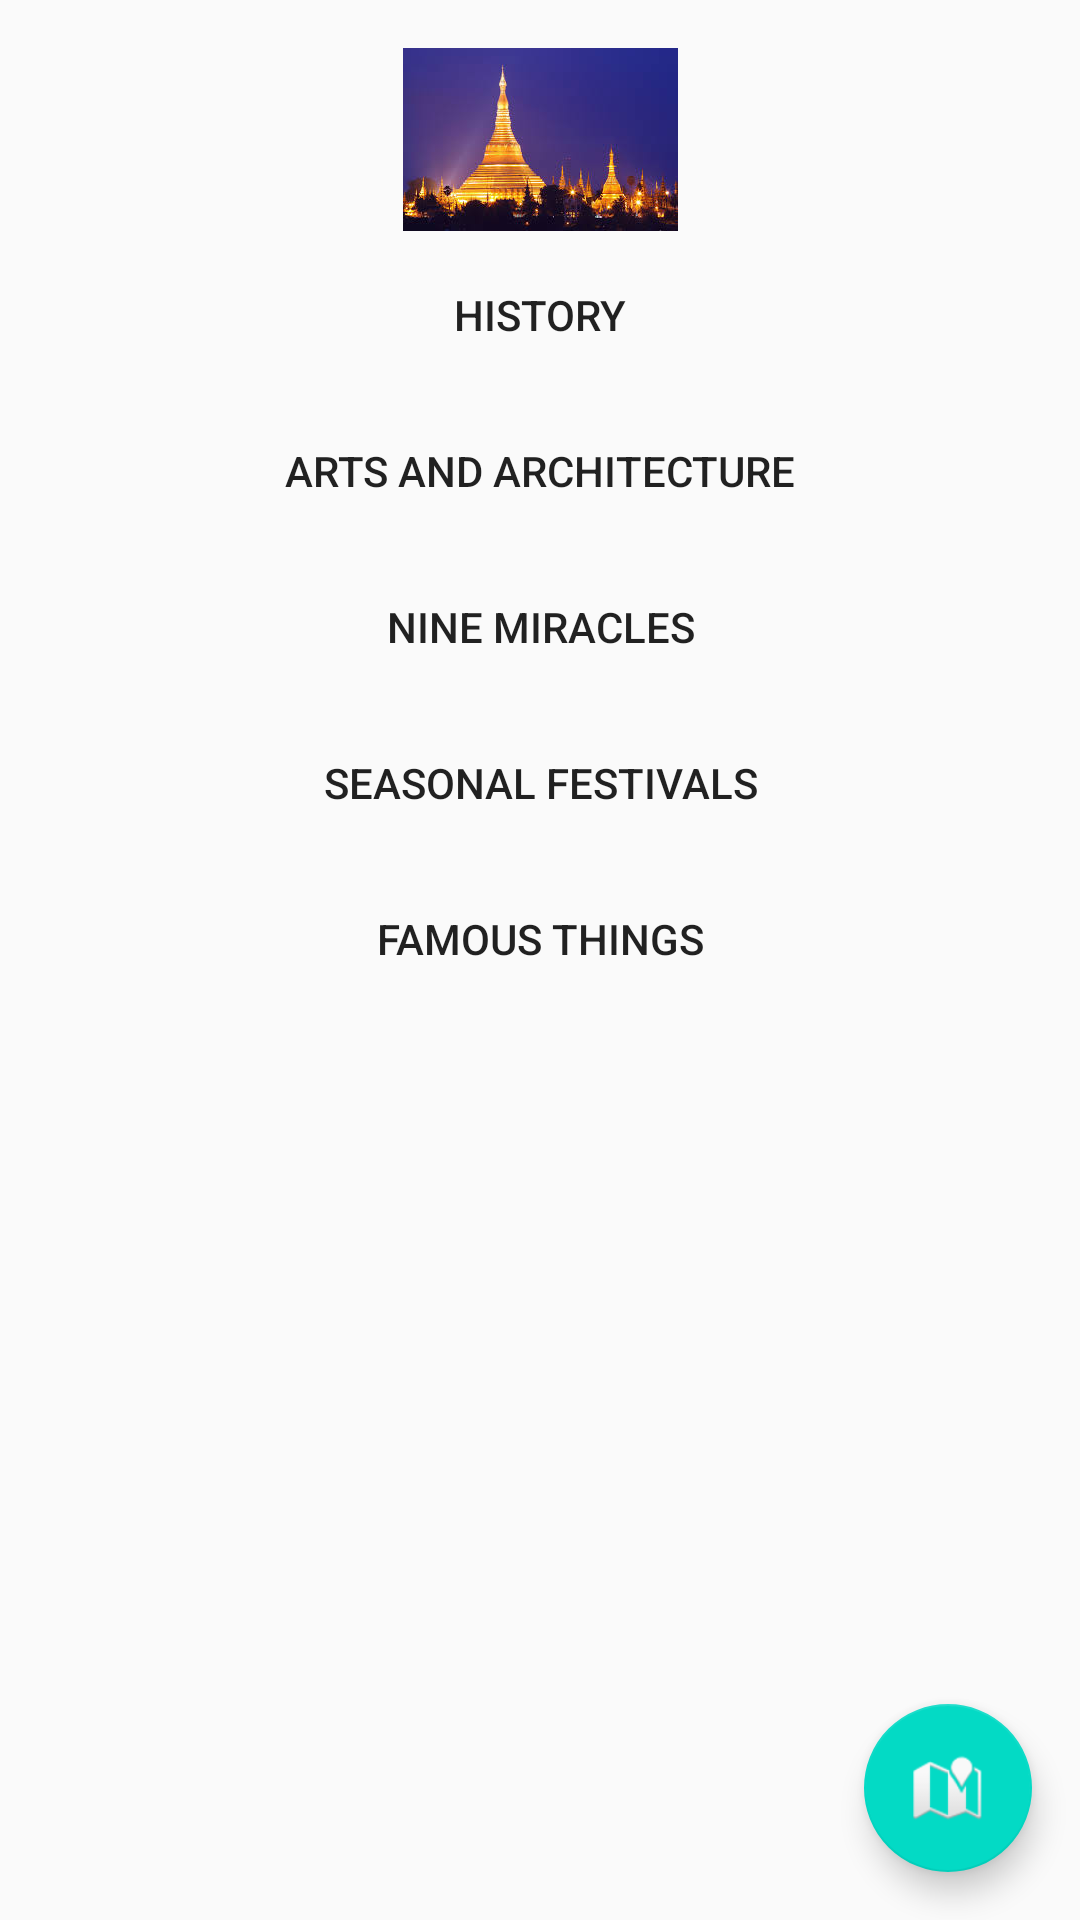

Named icons in this screenshot (1080px x 1920px) and their centers, (x,y):
map: (948,1788)
shwedagon: (540,139)
